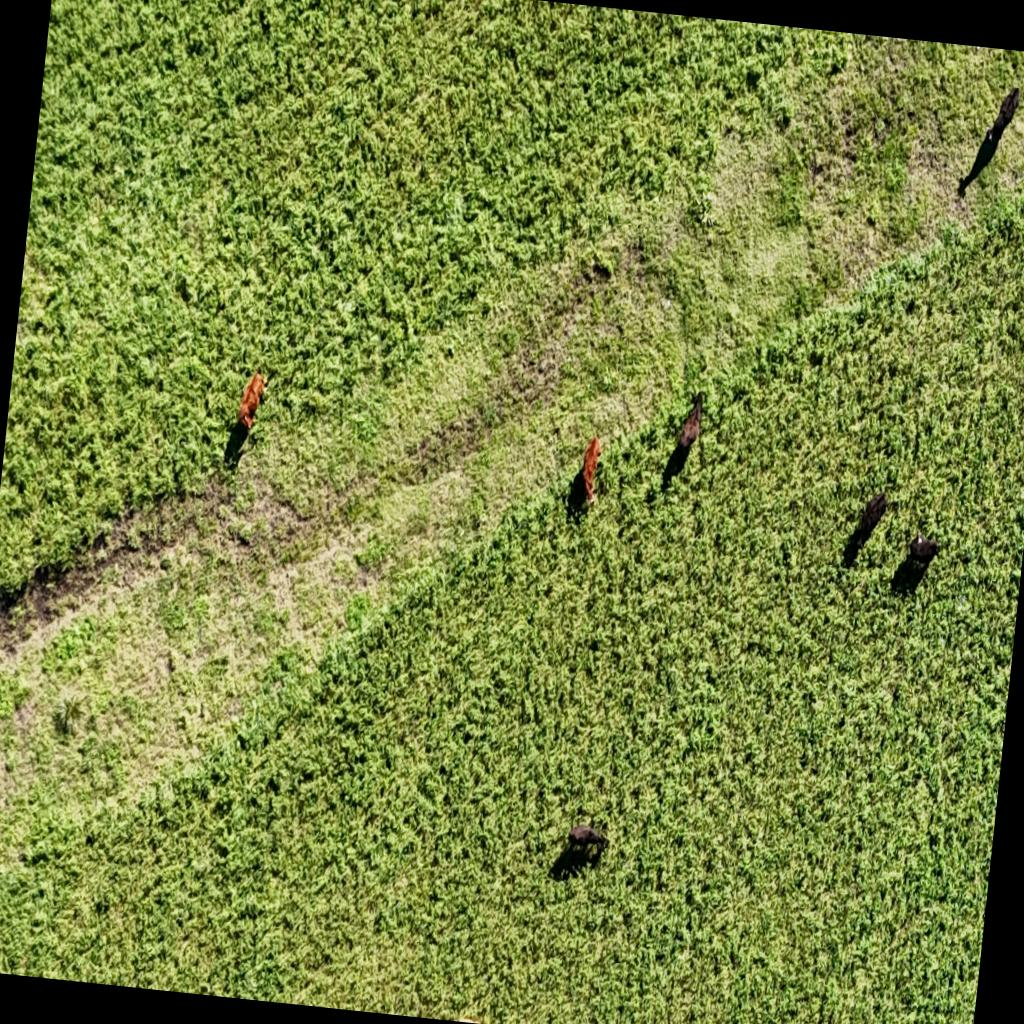cow: (226, 362, 270, 462), (570, 426, 606, 514), (558, 816, 612, 871), (987, 81, 1022, 150), (900, 522, 942, 576), (673, 390, 704, 462), (856, 488, 888, 544)
